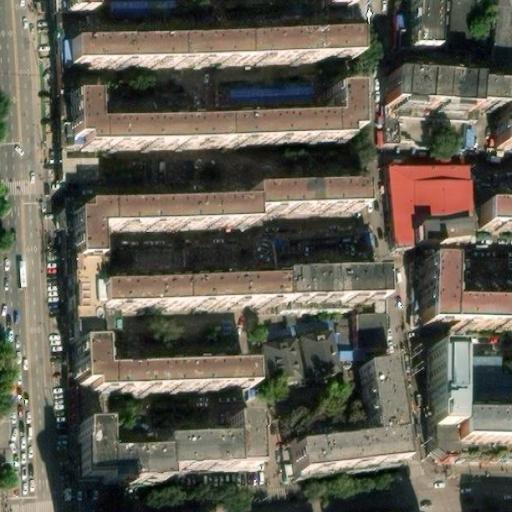building: (71, 87, 358, 151), (296, 365, 404, 478), (72, 196, 251, 256), (67, 28, 353, 62), (73, 355, 246, 405), (391, 159, 476, 247), (76, 423, 162, 485), (160, 414, 255, 470), (97, 273, 278, 300), (469, 0, 512, 79), (250, 181, 362, 209), (278, 267, 377, 296), (390, 78, 471, 113), (470, 88, 512, 150), (421, 358, 448, 453), (66, 274, 99, 348), (258, 336, 305, 385), (462, 360, 512, 402), (225, 79, 314, 102), (447, 430, 512, 460), (421, 262, 444, 327), (443, 306, 512, 327), (351, 320, 386, 356), (408, 0, 432, 50), (479, 201, 512, 227)
